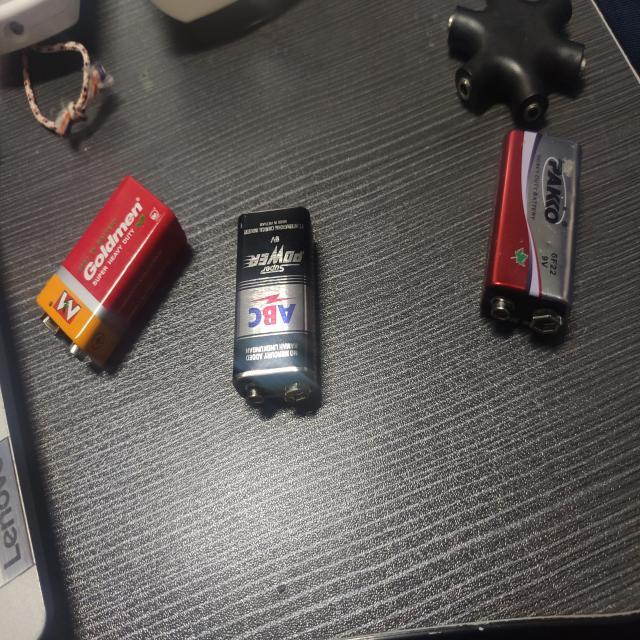hazardous waste: (26, 172, 198, 377), (460, 112, 600, 356), (222, 198, 338, 419)
